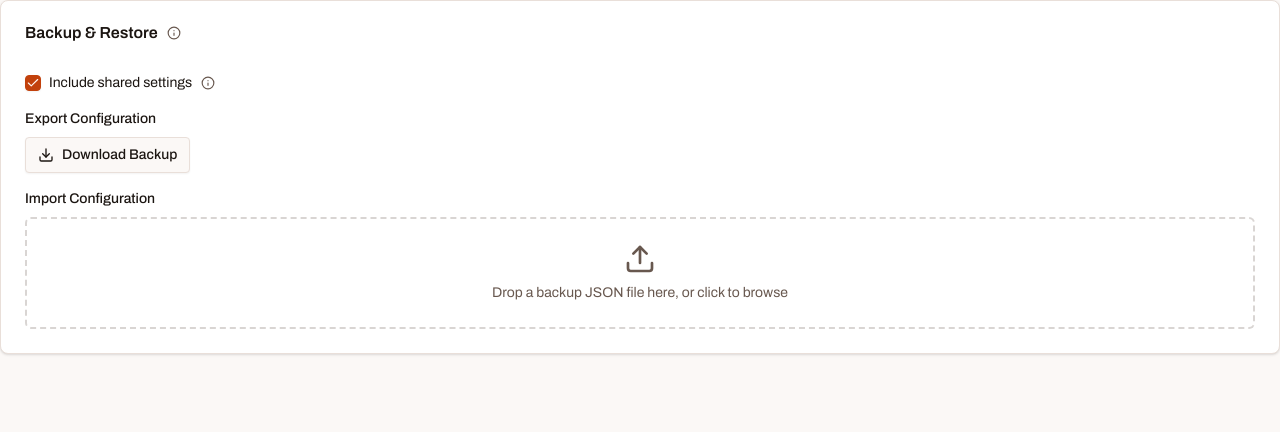
Scenario: BackupPanel › shows error when export fetch returns non-ok
Click the button "Download Backup": x=108, y=155 [25,137,190,173]
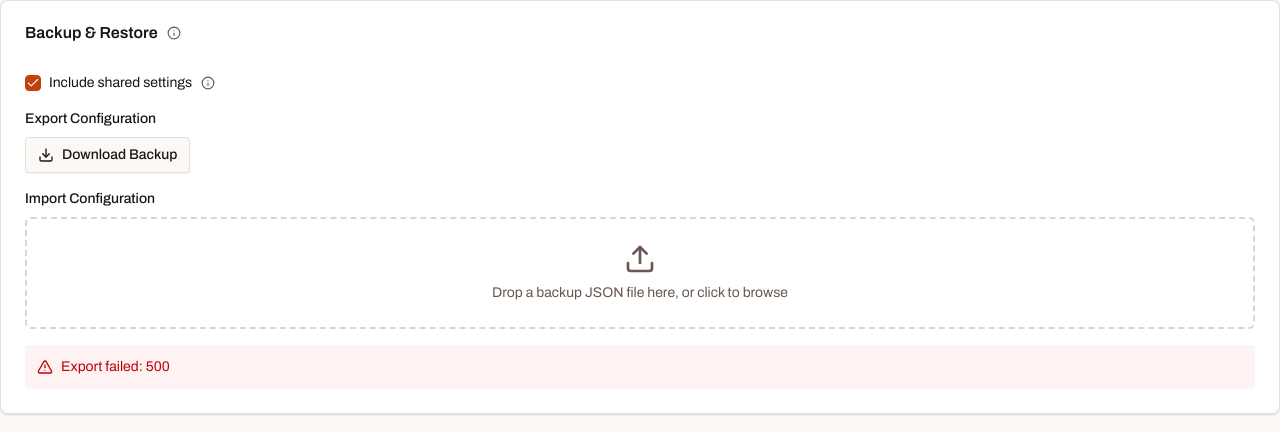
Expected: the text "Export failed: 500" is shown, [61,357,170,377]
